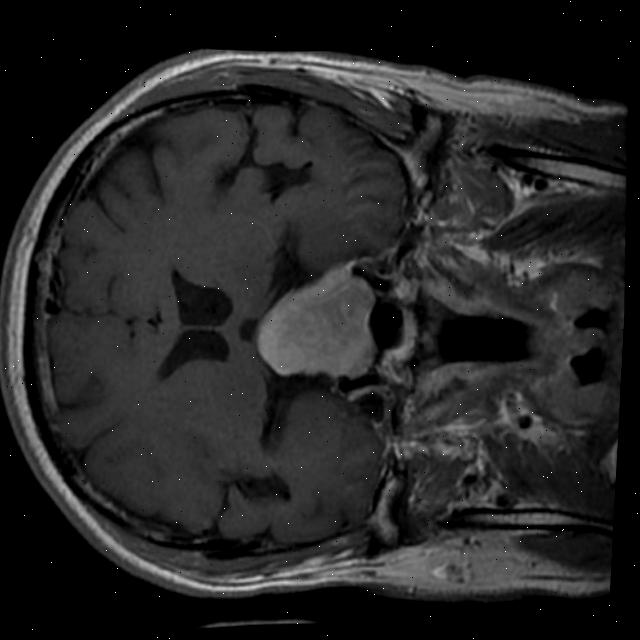Pituitary: (250, 258, 380, 383)
